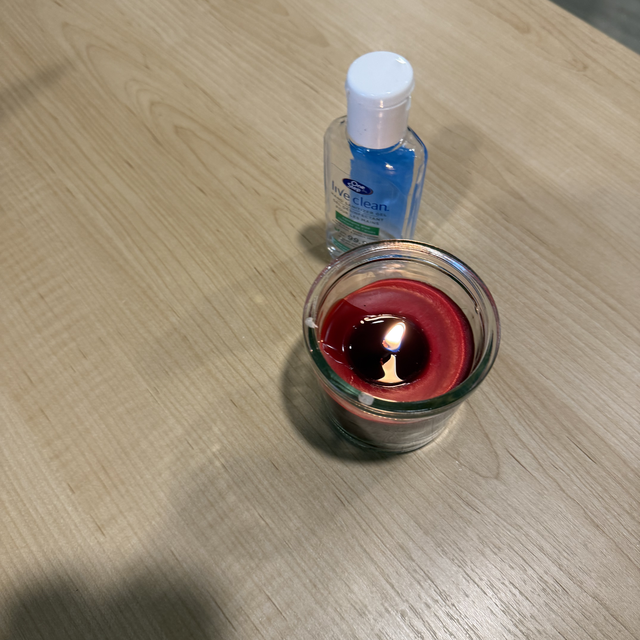Candle: (301, 240, 504, 456)
Sanitizer: (320, 52, 427, 295)
